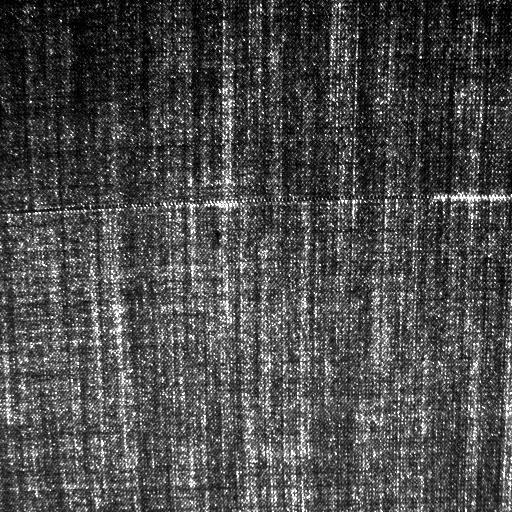fabric_broken_pick: (38, 182, 504, 212)
